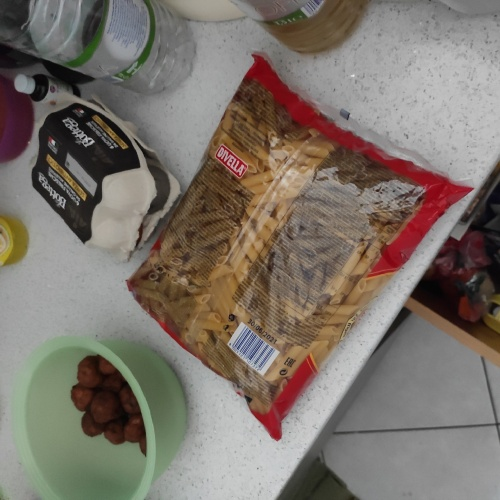pasta: (161, 107, 372, 391)
